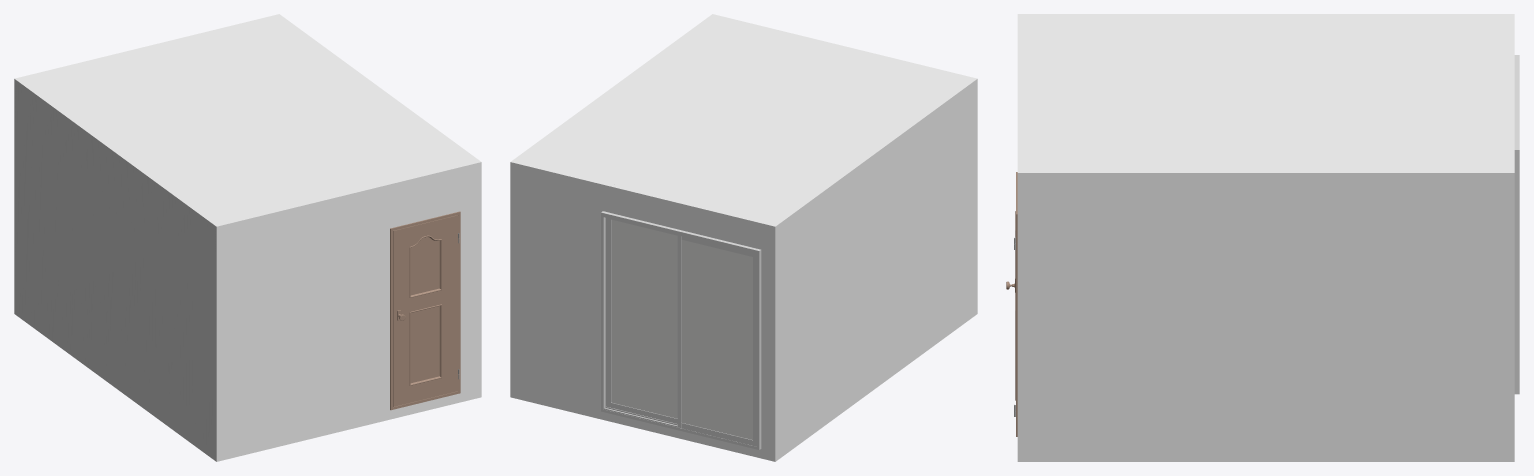
The picture shows the model from 3 angles, left to right: view 1: azimuth 30°, elevation 25°; view 2: azimuth 150°, elevation 25°; view 3: azimuth 270°, elevation 25°; orthographic projection. The views are drawn at different scales.
Visible parts, largest first — view 1: 南壁, 天井, 西壁, 扉, 北壁, 東壁; view 2: 天井, 西壁, 北壁, 左, 右, 南壁, 東壁; view 3: 東壁, 天井, 北壁, 南壁, 西壁.
Part boxes in pixels (x1=…): 南壁: x1=214, y1=160, x2=481, y2=461; 天井: x1=22, y1=17, x2=473, y2=223; 西壁: x1=17, y1=79, x2=217, y2=459; 扉: x1=393, y1=215, x2=459, y2=406; 北壁: x1=14, y1=14, x2=281, y2=315; 東壁: x1=277, y1=16, x2=478, y2=160; 天井: x1=518, y1=17, x2=969, y2=223; 西壁: x1=774, y1=79, x2=974, y2=459; 北壁: x1=510, y1=160, x2=777, y2=461; 左: x1=677, y1=235, x2=756, y2=446; 右: x1=606, y1=218, x2=677, y2=423; 南壁: x1=710, y1=14, x2=977, y2=315; 東壁: x1=513, y1=16, x2=714, y2=160; 東壁: x1=1024, y1=170, x2=1508, y2=461; 天井: x1=1024, y1=16, x2=1508, y2=169; 北壁: x1=1508, y1=14, x2=1519, y2=461; 南壁: x1=1014, y1=14, x2=1024, y2=461; 西壁: x1=1024, y1=14, x2=1508, y2=16.
Size of the model in its own units: 2.83 by 2.4 by 3.86.
